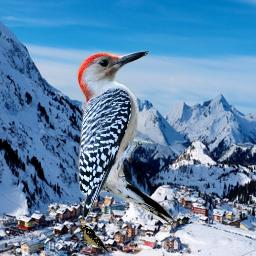Woodpecker: (68, 43, 185, 238), (78, 224, 109, 253)
